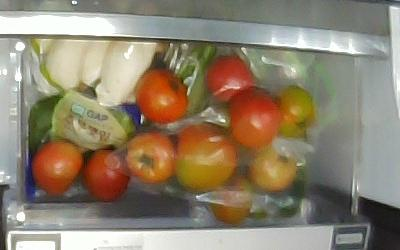tomato: (229, 87, 280, 149), (136, 68, 187, 124), (32, 140, 81, 196), (81, 148, 131, 202), (274, 85, 317, 139)
tomato_vinyl: (174, 122, 238, 192), (126, 132, 175, 184), (206, 55, 256, 102), (211, 173, 252, 224), (247, 150, 296, 191)
